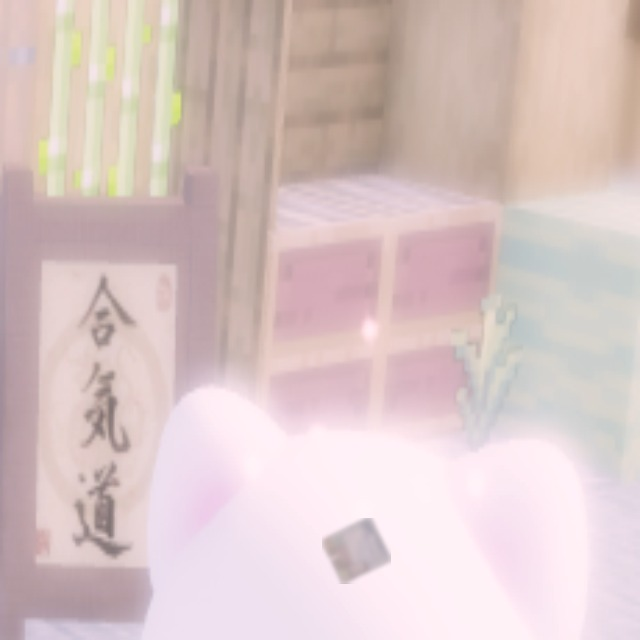urso_branco: (322, 518, 391, 584)
